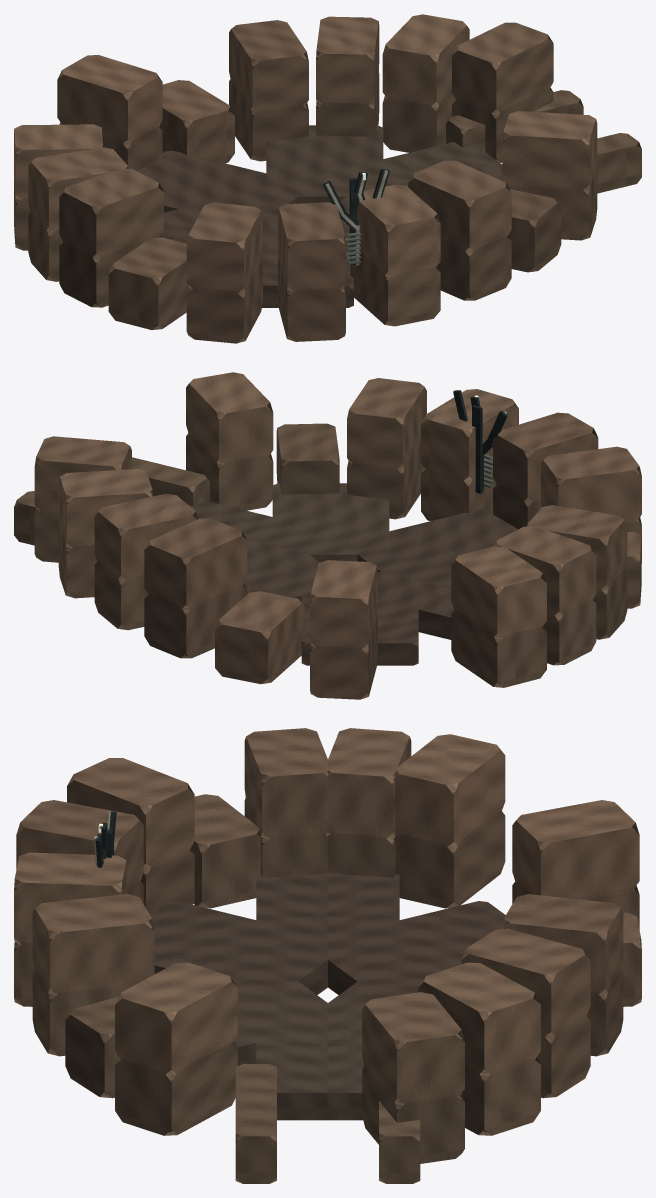
File: cataclysm_fen_cistern.glb
3 views of the same model, one above another, from view 1: azimuth 30°, elevation 25°; view 2: azimuth 150°, elevation 25°; view 3: azimuth 270°, elevation 25° (orthographic). The views are drawn at different scales.
Visible parts, largest first — view 1: cataclysm_fen_cistern; view 2: cataclysm_fen_cistern; view 3: cataclysm_fen_cistern.
Boxes of the visible parts, left/top/right/bottom form: cataclysm_fen_cistern: left=14, top=14, right=641, bottom=343; cataclysm_fen_cistern: left=14, top=372, right=641, bottom=699; cataclysm_fen_cistern: left=14, top=728, right=641, bottom=1183.
Bounding box in the file's own units: 2.83 × 0.6469 × 2.28.
3 materials, 3 textured.
